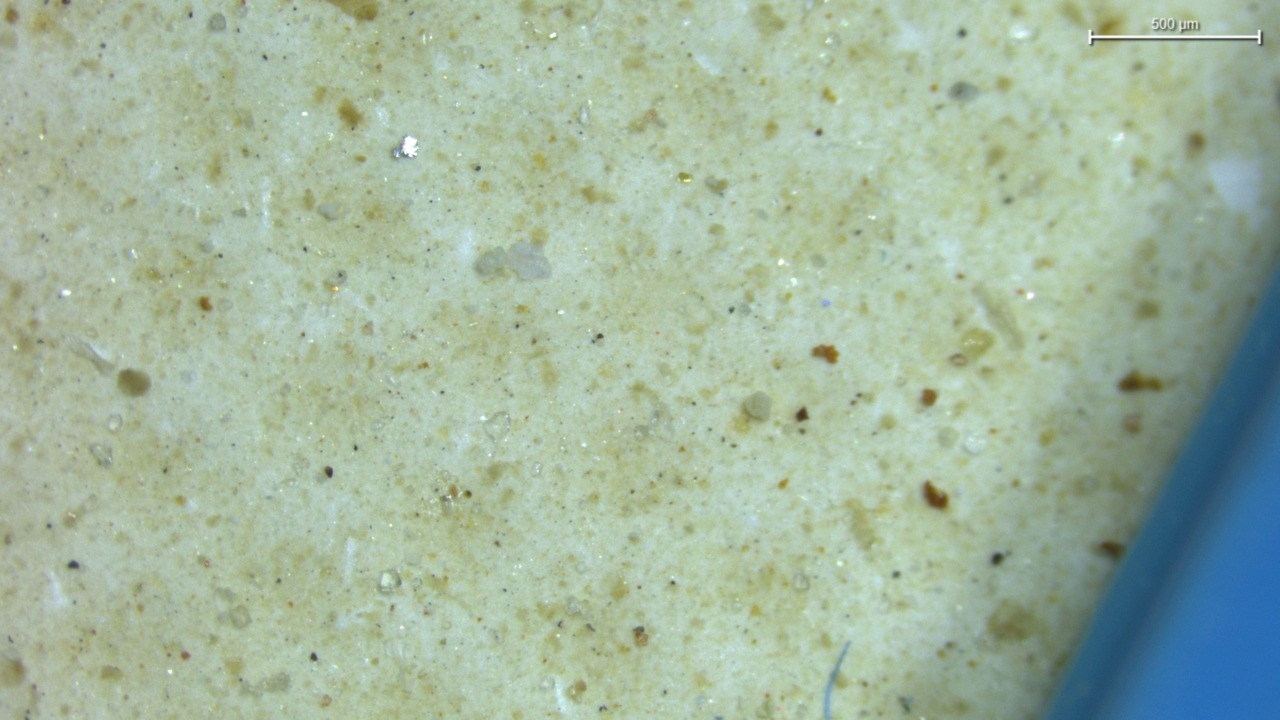microplastic_fragment: (474, 241, 550, 280), (743, 391, 772, 420), (317, 203, 340, 220)
